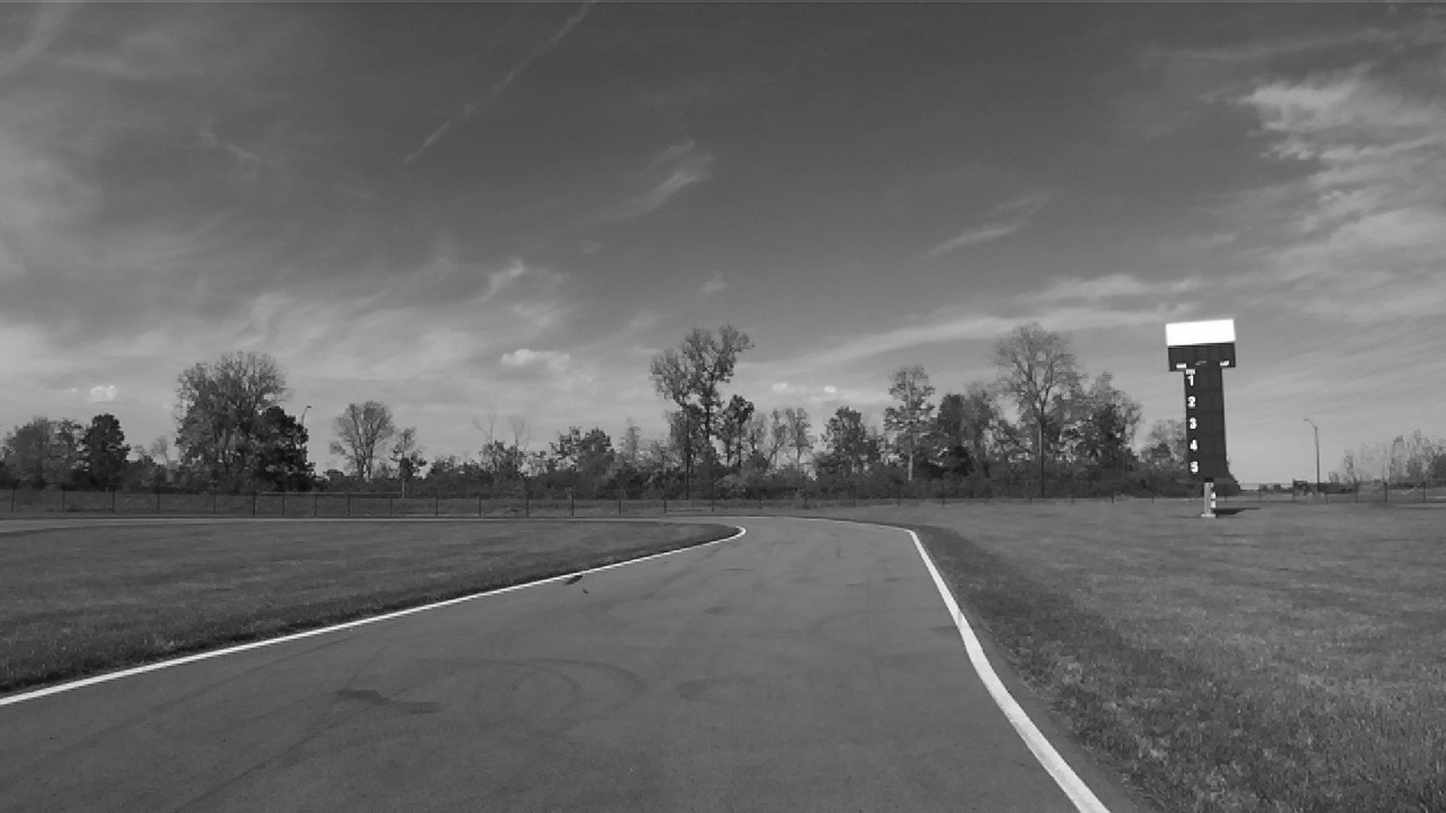white-line: (0, 526, 748, 707), (905, 530, 1108, 812)
